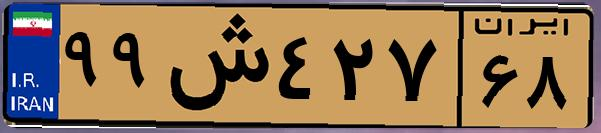2: (330, 28, 385, 110)
4: (270, 28, 330, 110)
6: (475, 38, 525, 113)
7: (385, 28, 445, 110)
8: (525, 38, 570, 115)
9: (57, 26, 110, 100), (110, 28, 158, 98)
ش: (158, 12, 270, 120)
